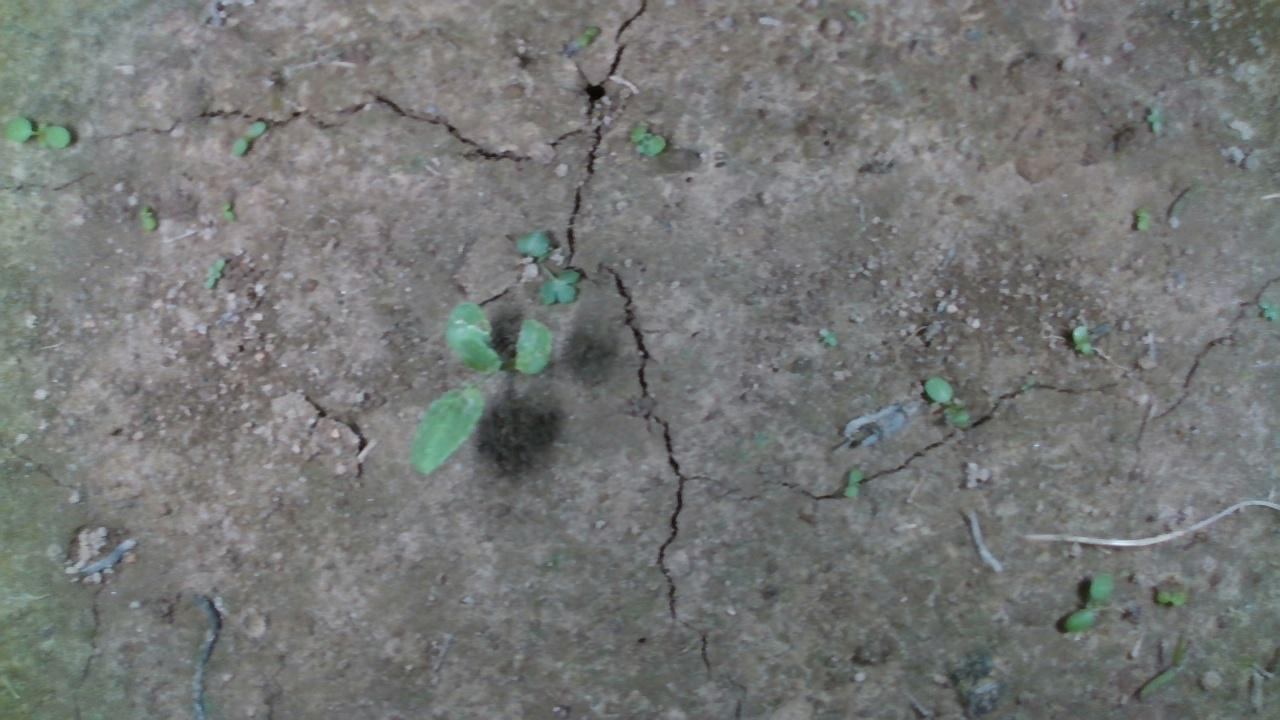weed: (511, 227, 582, 306), (1063, 570, 1113, 633), (924, 373, 970, 427), (1, 115, 71, 149), (229, 117, 267, 156), (627, 120, 666, 156), (1070, 322, 1096, 356), (202, 255, 226, 290), (842, 466, 864, 500), (1145, 104, 1169, 135), (573, 21, 600, 48), (1152, 587, 1188, 607), (1254, 295, 1278, 322), (1132, 203, 1152, 234), (138, 201, 157, 232), (213, 200, 235, 222), (816, 325, 838, 346)
